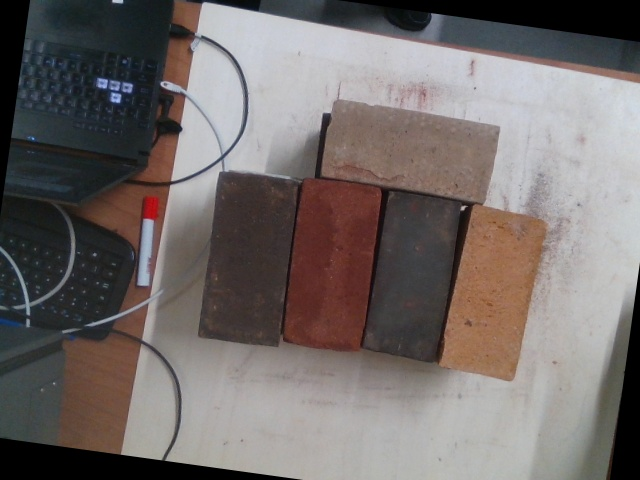brick: (438, 206, 549, 381), (323, 100, 499, 201), (199, 174, 297, 347), (285, 180, 381, 349), (364, 196, 459, 362)
